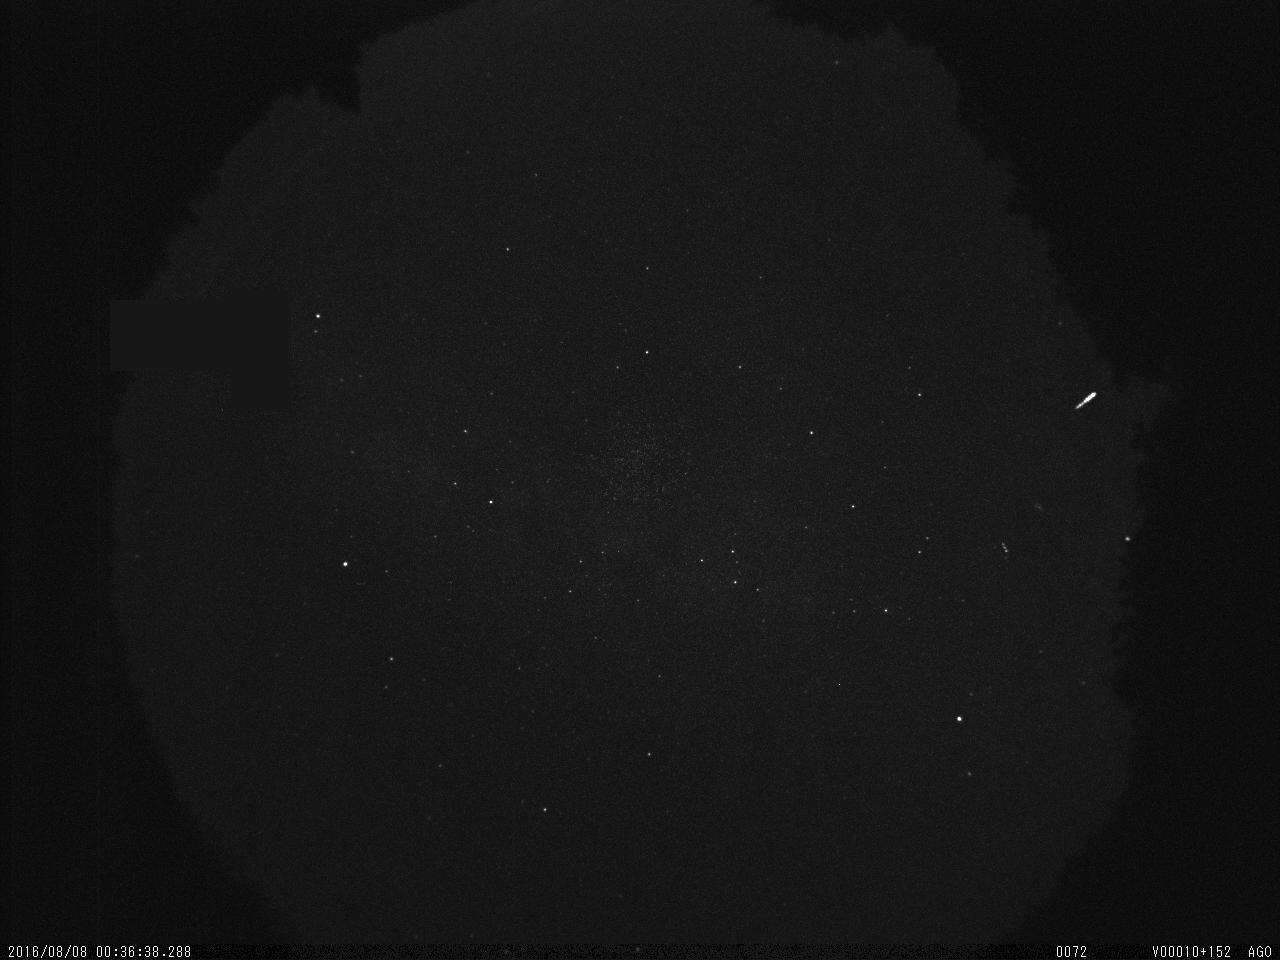meteor: (1062, 388, 1113, 418)
